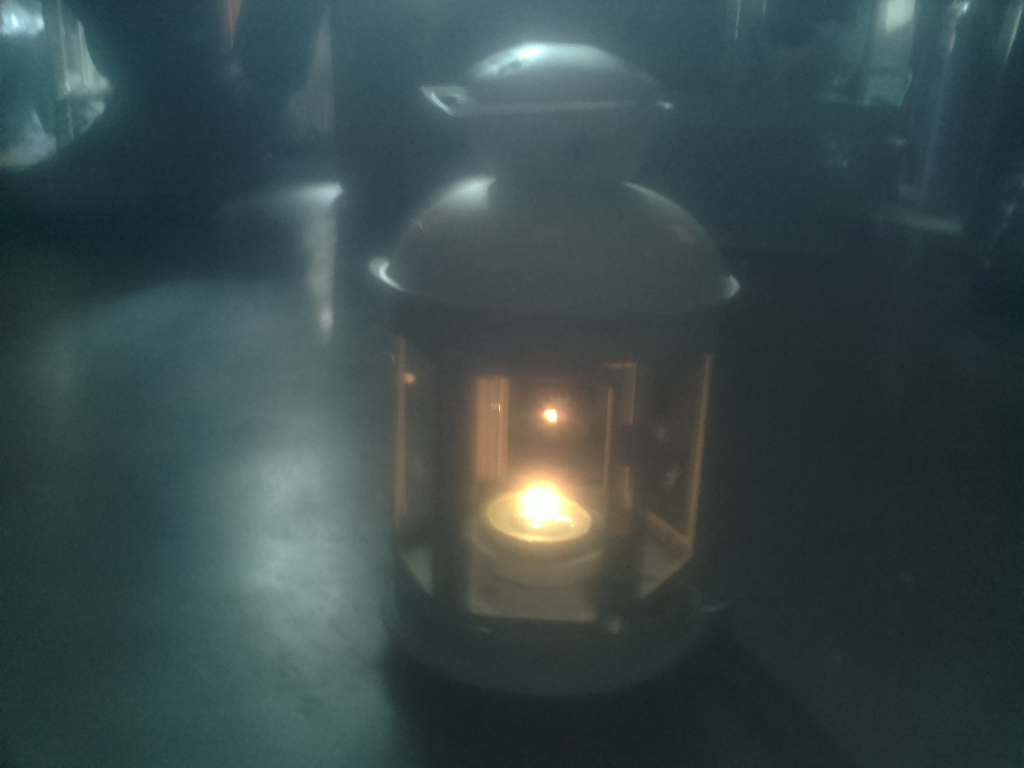fire: (492, 470, 592, 558)
